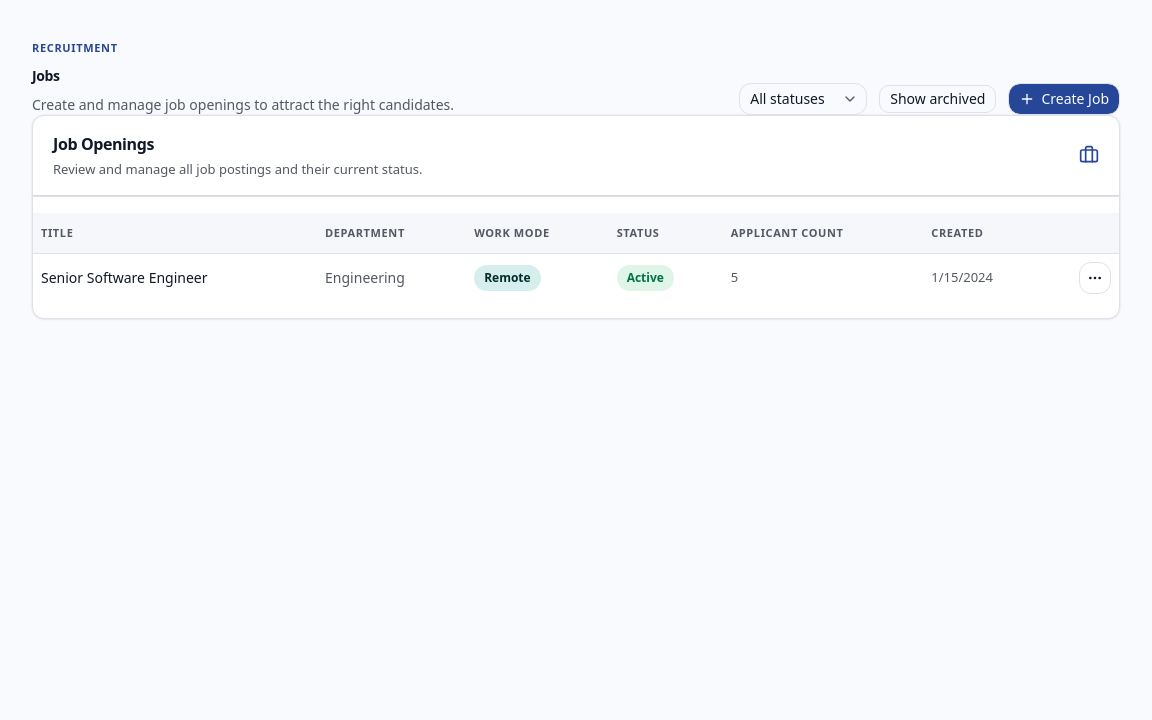
Test: JobsPage › Confirmation Dialogs › shows close job confirmation with exact UI-spec text
expect the button "Senior Software Engineer" is shown: met, box [41,268,309,288]
Click the button named "Manage Senior Software Engineer" at (1095, 278), box [1079,262,1111,294]
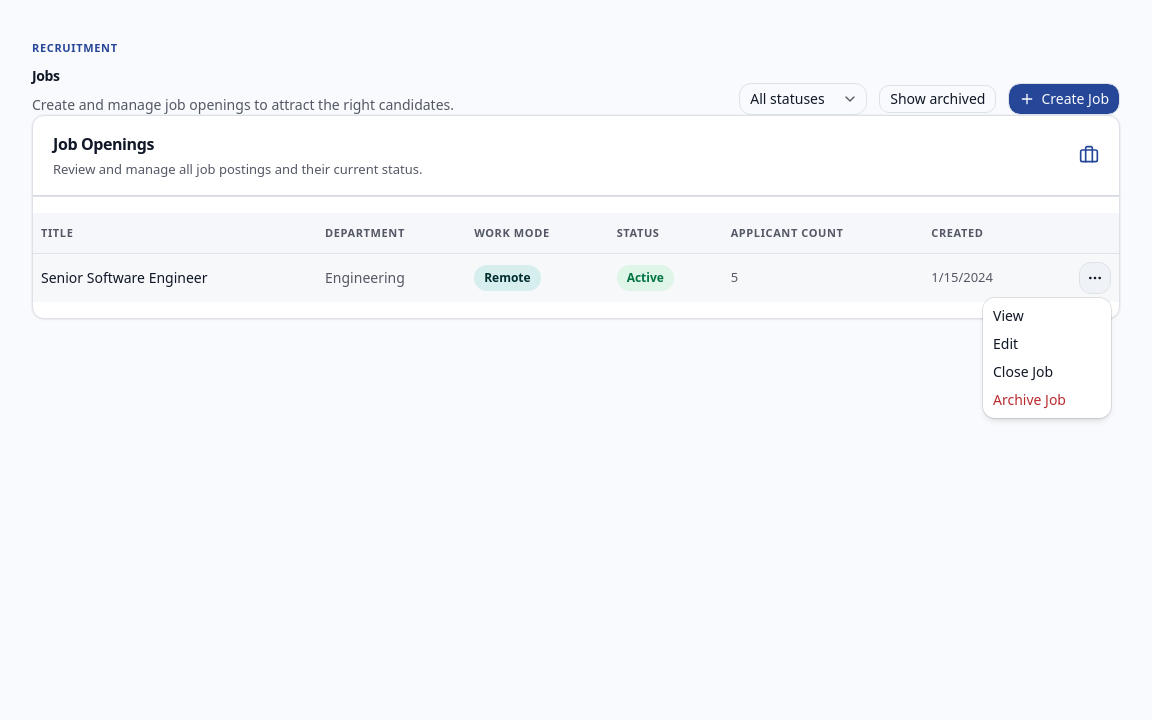
Click the menu item "Close Job" at (1023, 372), box [993,362,1053,381]
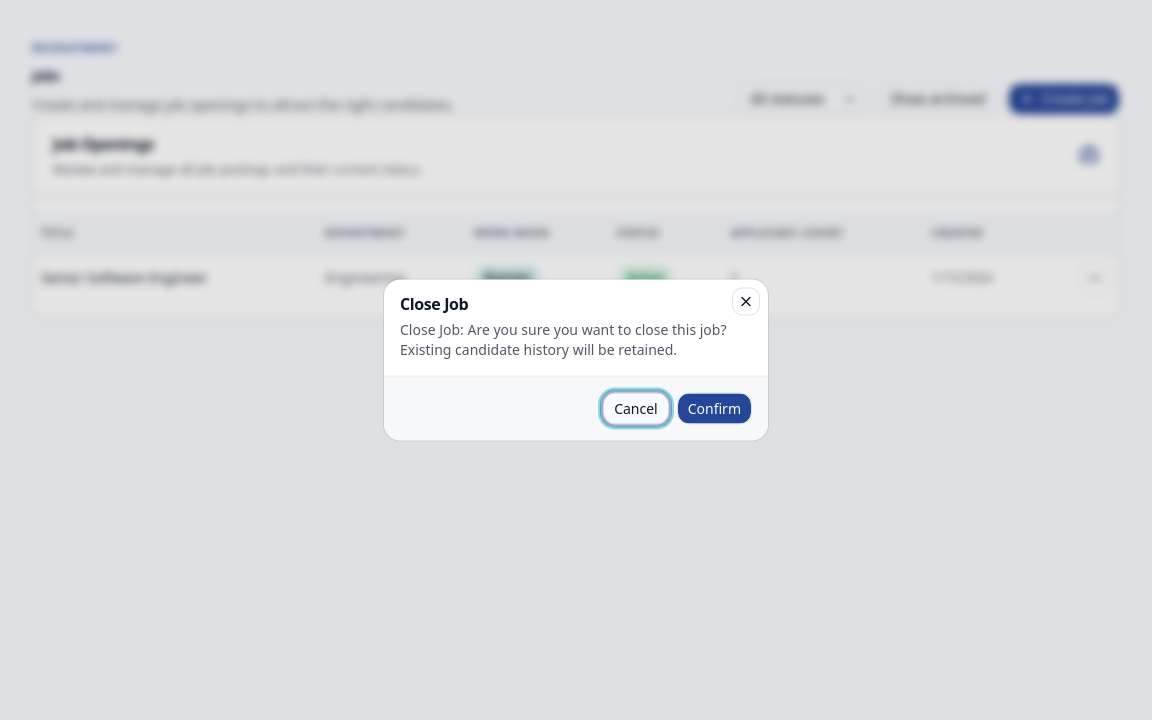
expect the text "Close Job: Are you sure you want to close this job? Existing candidate history will be retained." is shown: met, box [400,320,726,358]
expect the button "Cancel" is shown: met, box [603,392,669,424]
expect the button "Confirm" is shown: met, box [677,392,752,424]
